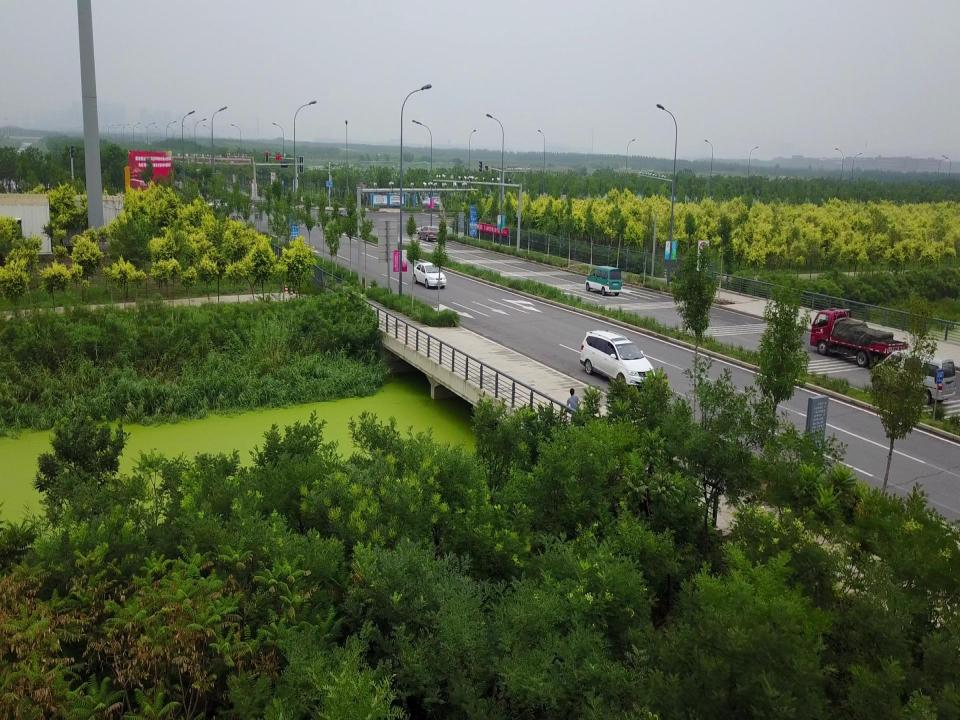car: (579, 328, 657, 391), (412, 262, 446, 289), (418, 226, 440, 241), (334, 208, 354, 222), (209, 199, 229, 210)
truck: (810, 308, 908, 368)
van: (870, 349, 956, 405), (585, 265, 623, 296)
